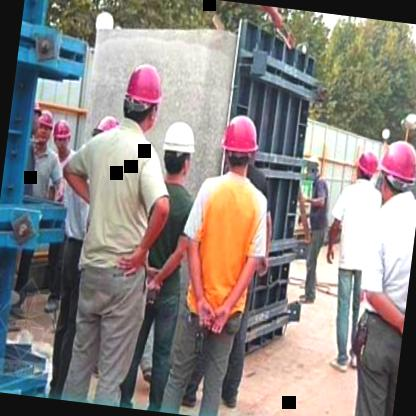helmet: (115, 52, 170, 138), (212, 105, 266, 185), (371, 133, 416, 204), (157, 113, 196, 181), (352, 144, 384, 187), (33, 108, 56, 150), (50, 116, 72, 156)
